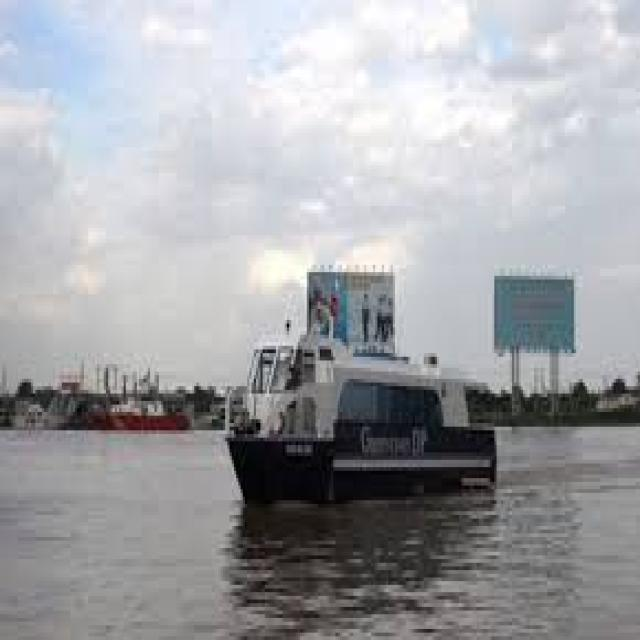houseboat: (227, 229, 514, 500)
